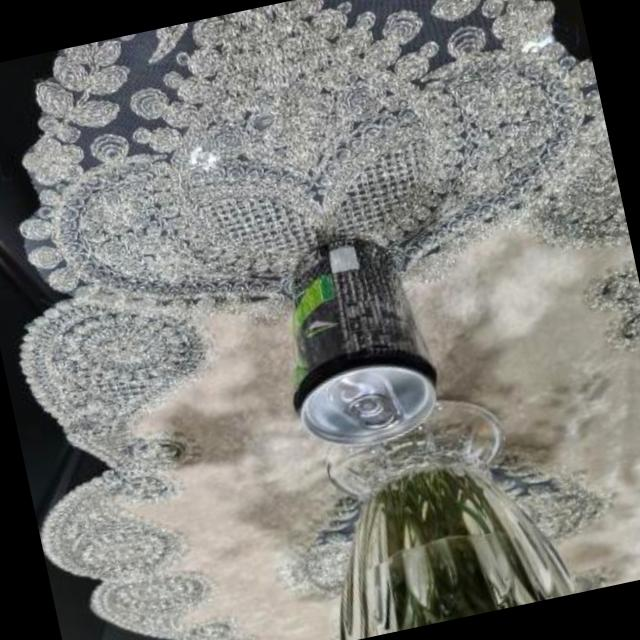metal: (290, 242, 434, 444)
